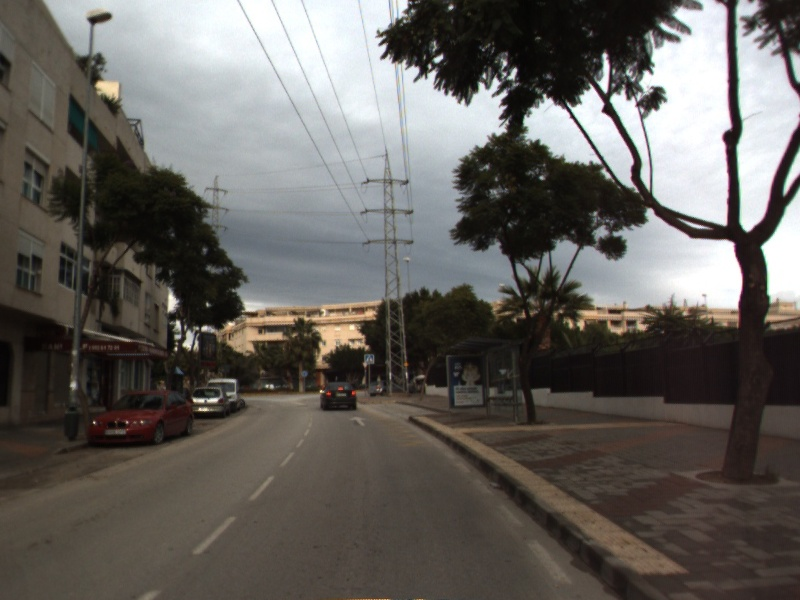STRAIGHT: (347, 414, 370, 428)
